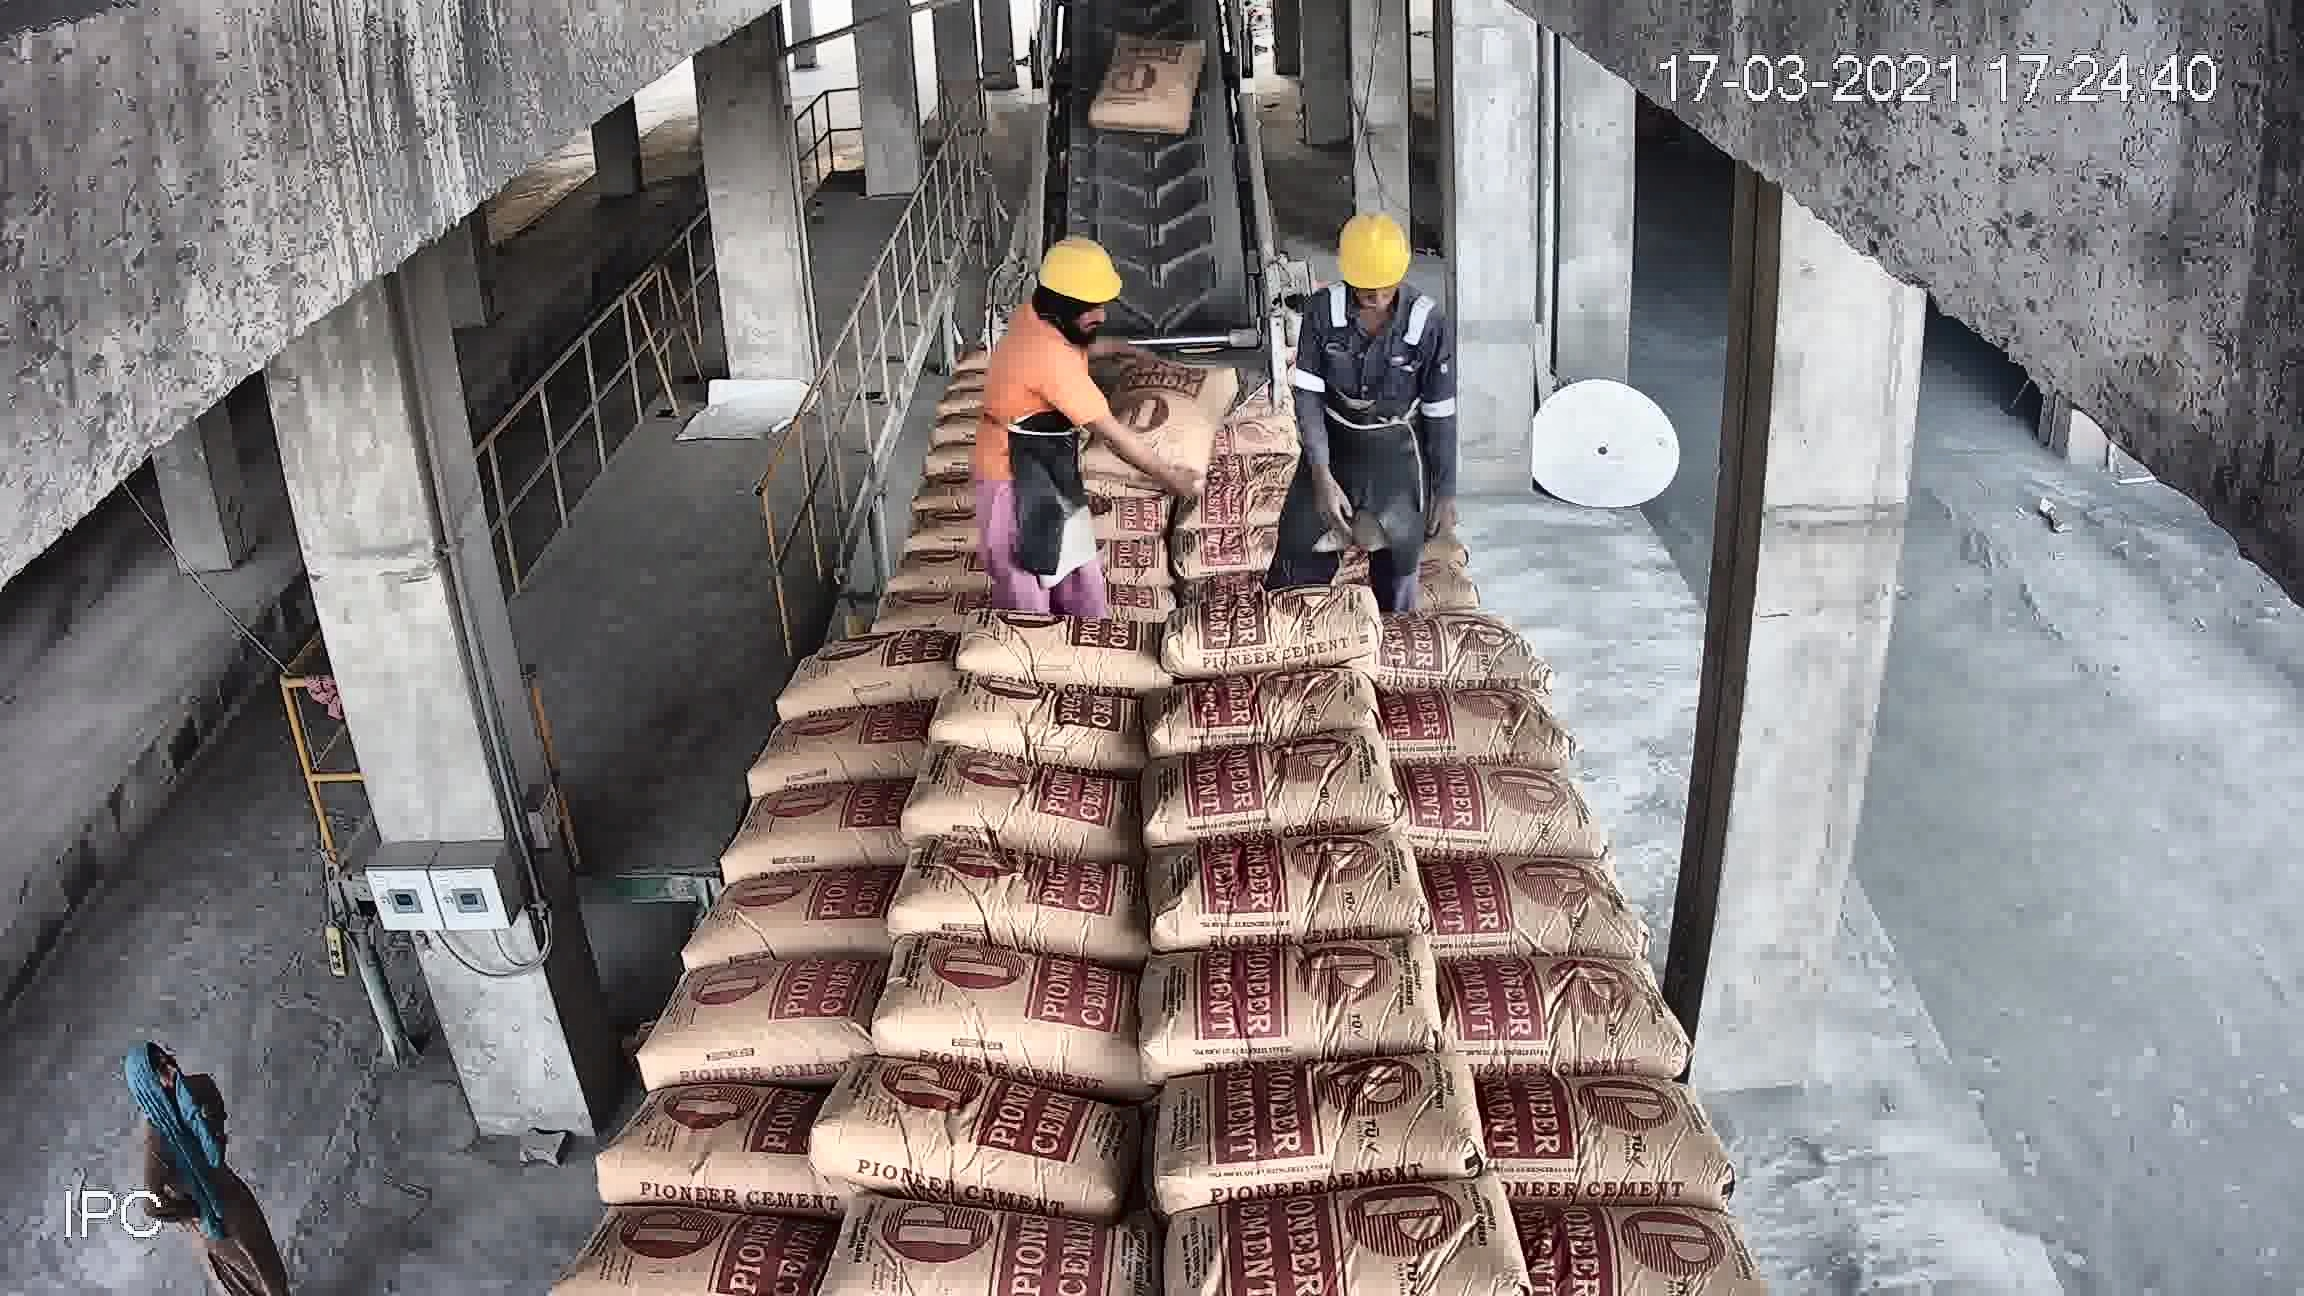bag: (1046, 0, 1249, 297), (1211, 305, 1355, 385), (1105, 92, 1196, 182)
bag_h: (1146, 1060, 1502, 1204), (809, 1051, 1143, 1204), (1130, 934, 1461, 1081), (601, 946, 896, 1090), (1143, 812, 1438, 943), (777, 1196, 1166, 1296), (877, 938, 1147, 1081), (1187, 1185, 1522, 1296), (1467, 1060, 1722, 1190), (590, 1078, 839, 1207), (570, 1190, 847, 1290), (1111, 729, 1407, 821), (650, 851, 880, 967), (1537, 1180, 1769, 1293), (1415, 836, 1636, 953), (907, 843, 1146, 949), (1457, 954, 1666, 1067), (1180, 574, 1378, 692), (1146, 663, 1388, 758), (709, 775, 900, 888), (923, 668, 1147, 760), (910, 764, 1130, 847), (779, 570, 957, 660), (1367, 623, 1568, 703), (972, 612, 1174, 688), (745, 706, 938, 783), (1404, 680, 1578, 764), (1423, 760, 1590, 847), (1160, 548, 1355, 614), (790, 620, 934, 707), (1356, 555, 1532, 625), (965, 497, 1161, 557), (1173, 495, 1358, 559), (976, 541, 1149, 608), (1331, 473, 1497, 535), (987, 426, 1157, 483), (991, 465, 1149, 525), (847, 434, 975, 506), (832, 538, 975, 601), (1359, 510, 1518, 565), (1154, 456, 1310, 510), (1179, 407, 1329, 460), (1332, 423, 1475, 478), (843, 494, 984, 543)
